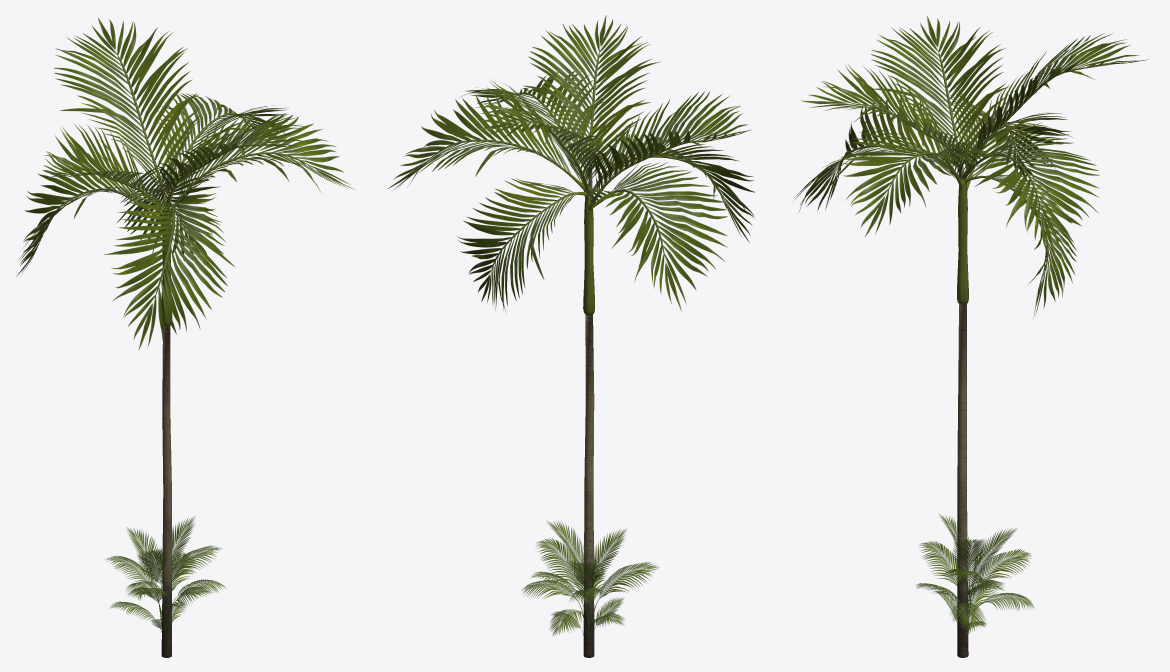
The model's file is areca.glb.
3 views of the same model, side by side, from view 1: azimuth 30°, elevation 25°; view 2: azimuth 150°, elevation 25°; view 3: azimuth 270°, elevation 25° (orthographic). The views are drawn at different scales.
Parts seen in each view (by area): view 1: AR_Palm_01, AR_Plant_01; view 2: AR_Palm_01, AR_Plant_01; view 3: AR_Palm_01, AR_Plant_01.
Boxes of the visible parts, x1=… form: AR_Palm_01: x1=16, y1=17, x2=354, y2=657; AR_Plant_01: x1=104, y1=516, x2=225, y2=634; AR_Palm_01: x1=387, y1=15, x2=755, y2=657; AR_Plant_01: x1=522, y1=520, x2=659, y2=639; AR_Palm_01: x1=794, y1=16, x2=1148, y2=657; AR_Plant_01: x1=916, y1=513, x2=1034, y2=637.
Bounding box in the file's own units: 4.95 × 9.28 × 4.95.
Materials: 3 (3 with a texture image).
